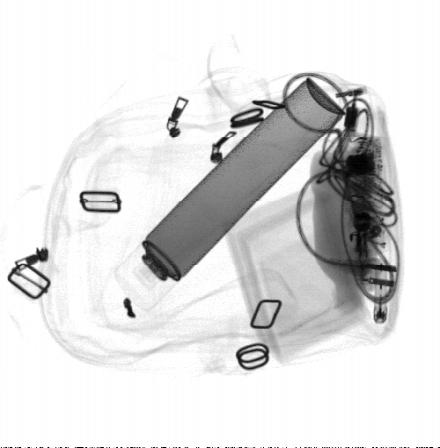Lighter: (374, 258, 388, 324)
Sprayer: (114, 78, 346, 313)
